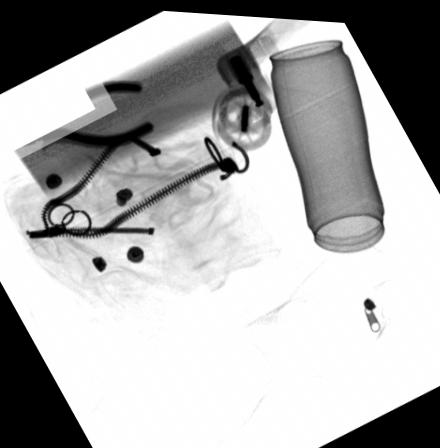Pliers: (25, 75, 156, 148)
